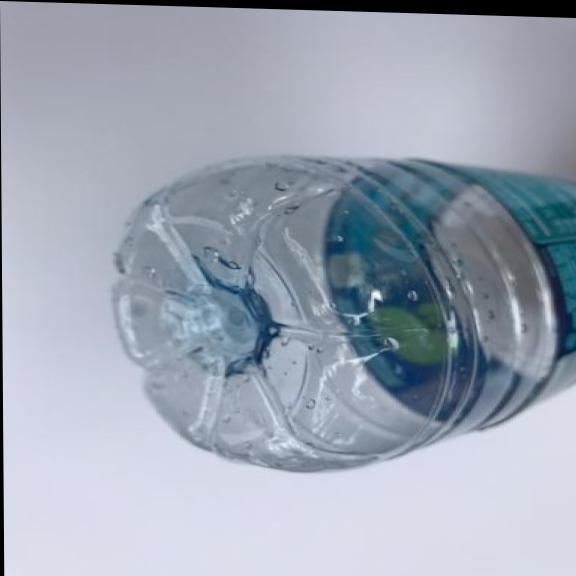Plastik: (99, 137, 576, 489)
